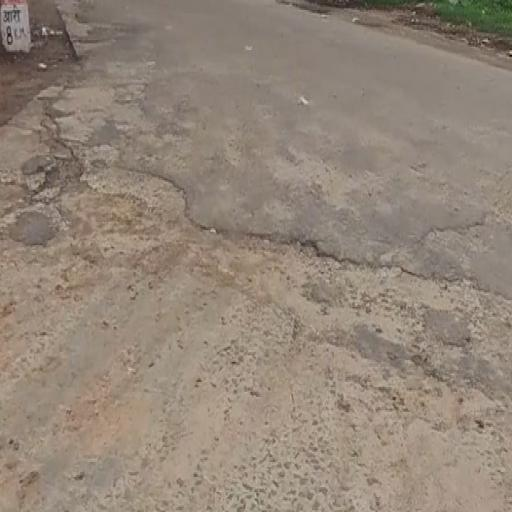ravelling: (20, 78, 504, 396)
